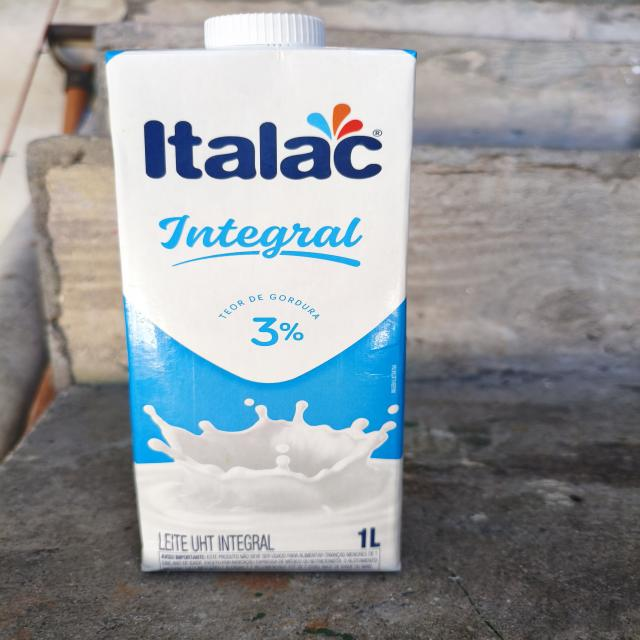Caixa de Leite: (98, 11, 426, 580)
